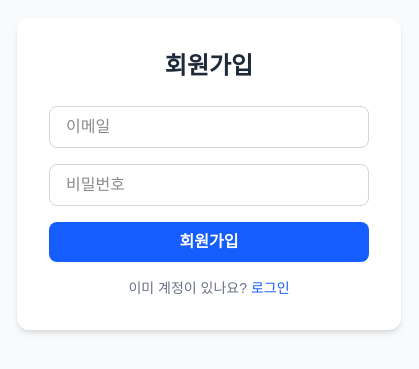
Scenario: SignupPage › 실패 시 에러 메시지가 표시된다
In the field with placeholder "이메일": (209, 127) [49,106,369,148], type "dup@example.com"
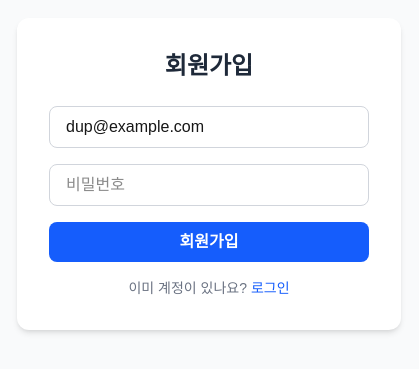
In the password field with placeholder "비밀번호": (209, 185) [49,164,369,206], type "password123"
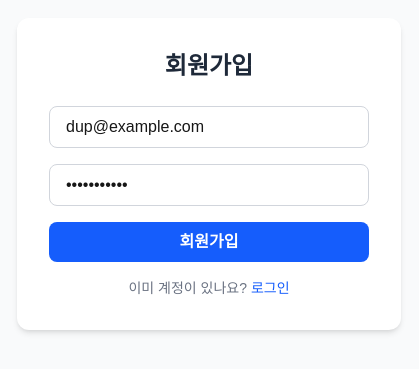
Click the button "회원가입": (209, 242) [49,222,369,262]
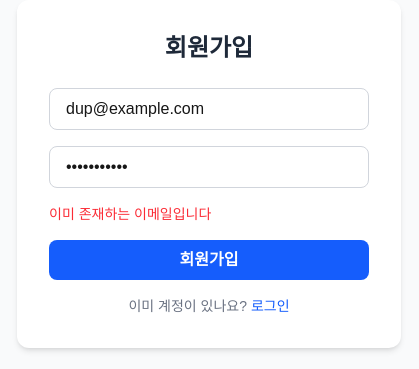
Result: the text "이미 존재하는 이메일입니다" is shown at [49,206,211,222]
